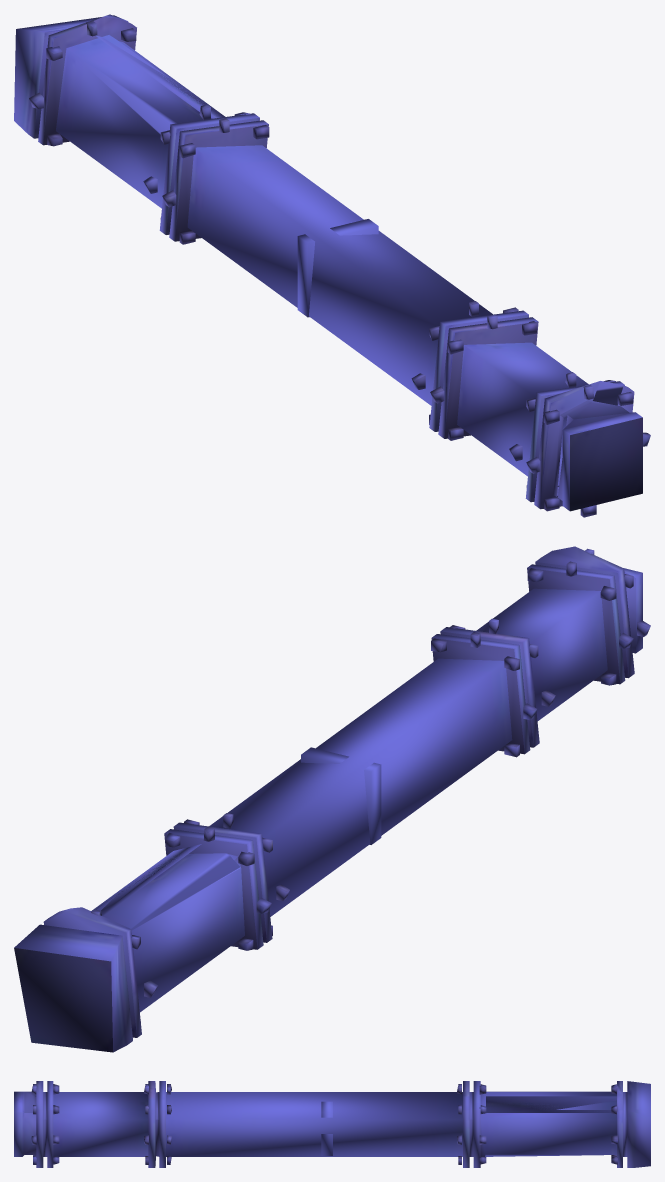
The model's file is model.progressive.glb.
3 renders of one model, top to bottom at view 1: azimuth 30°, elevation 25°; view 2: azimuth 150°, elevation 25°; view 3: azimuth 270°, elevation 25°, orthographic. The views are drawn at different scales.
Parts seen in each view (by area): view 1: material; view 2: material; view 3: material.
Boxes of the visible parts, x1,y1,x2,y2 form: material: (14,14,650,517); material: (14,546,650,1052); material: (14,1081,650,1167).
Bounding box in the file's own units: 0.244 × 0.2499 × 1.9.
Materials: 1 (1 with a texture image).
